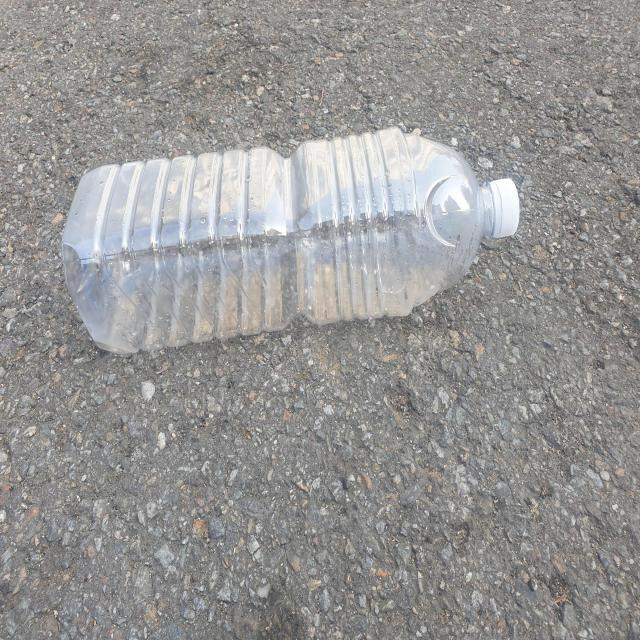plastic: (62, 126, 520, 354)
